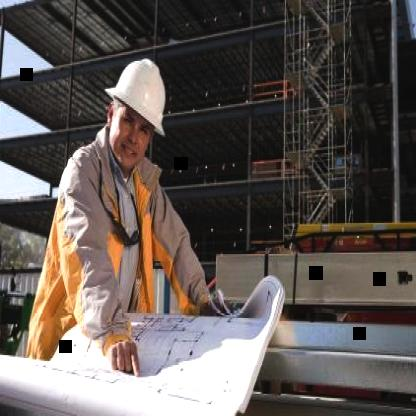helmet: (102, 53, 172, 170)
